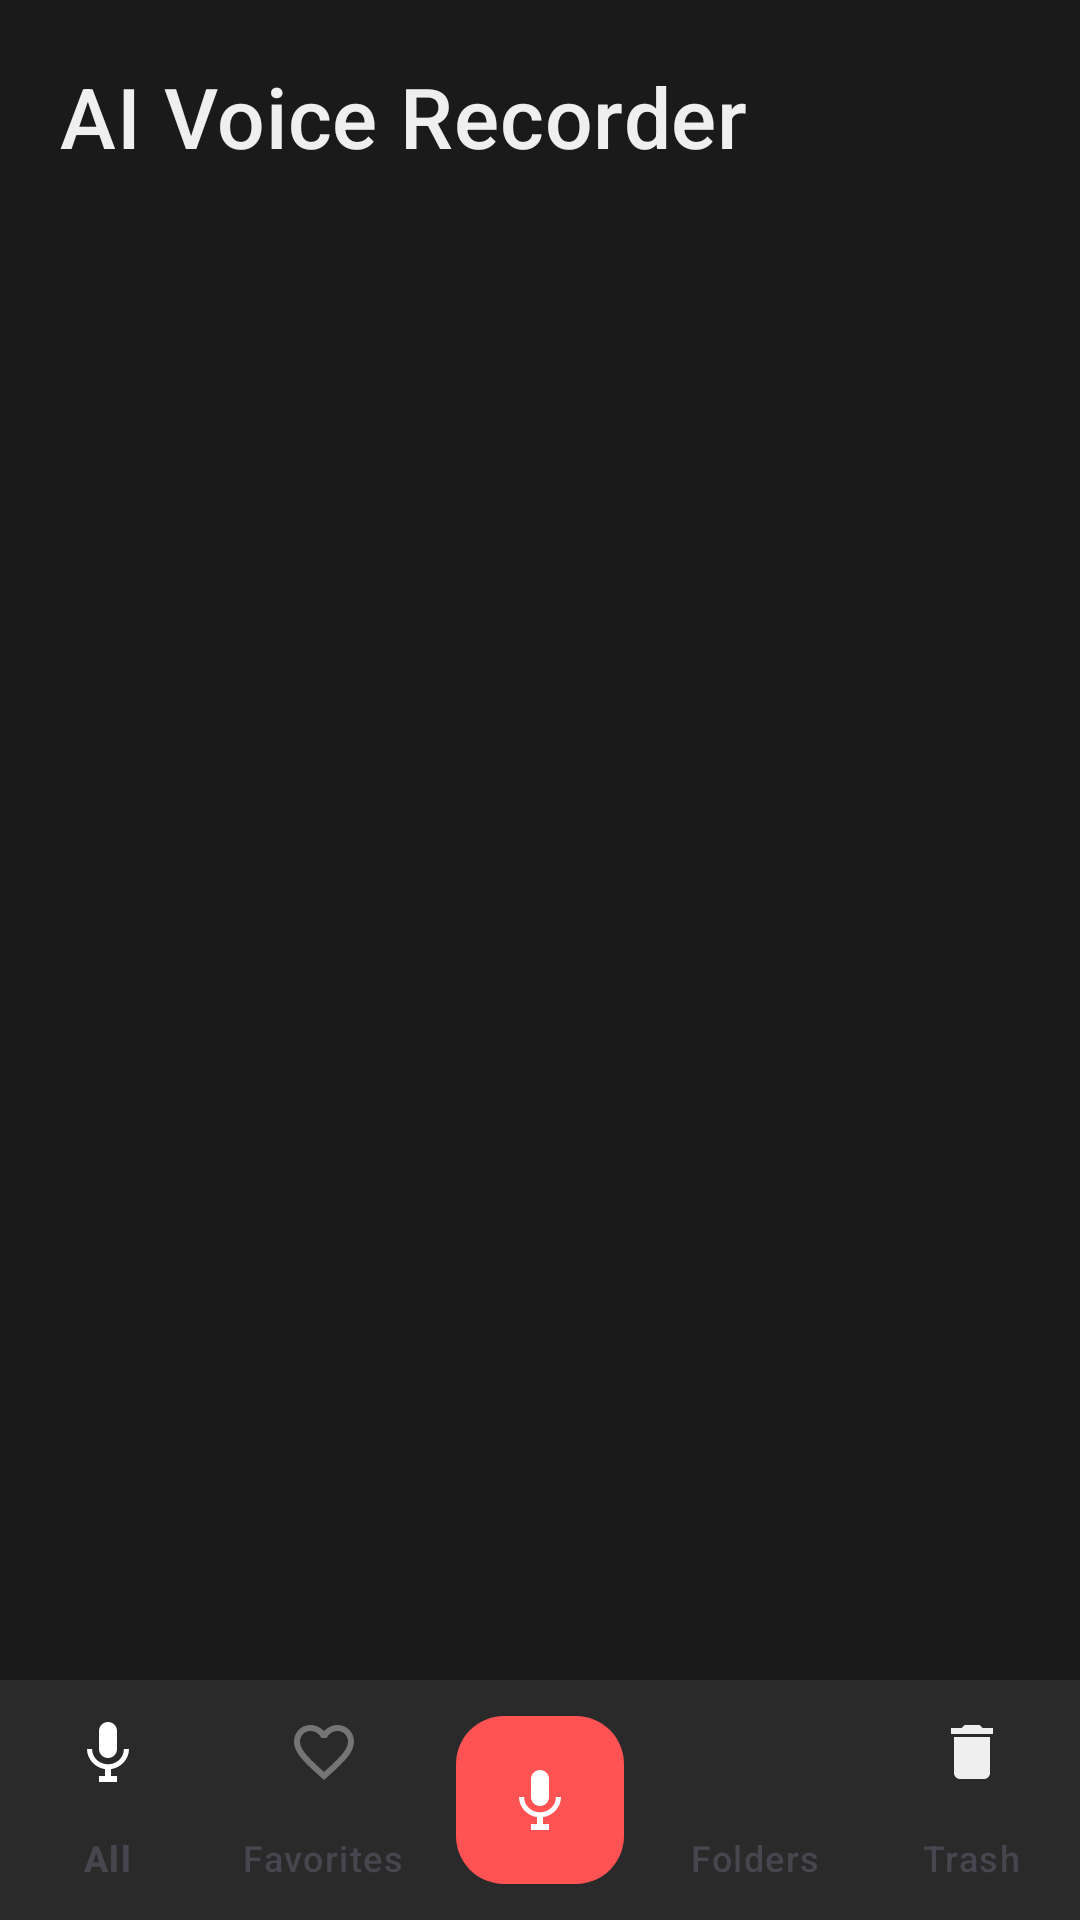

Point at icon controls on the screen. Image size 1080*1920, points as point (x, y).
Record: point (540, 1800)
